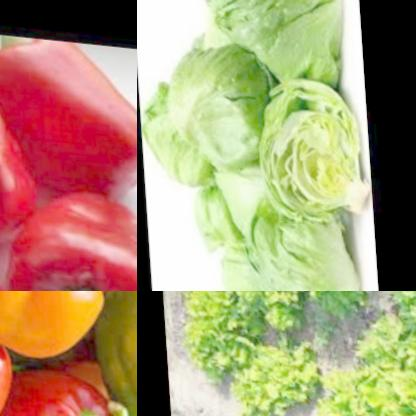bell pepper: (0, 25, 137, 210), (0, 168, 137, 291), (0, 291, 108, 362), (0, 358, 124, 416), (88, 291, 137, 416), (0, 323, 20, 416)
salad: (150, 291, 374, 416), (247, 63, 368, 219), (157, 26, 265, 163), (189, 0, 350, 86), (307, 291, 416, 416), (233, 187, 357, 291), (137, 81, 213, 186), (201, 153, 276, 233), (181, 174, 238, 255), (209, 237, 259, 291)
